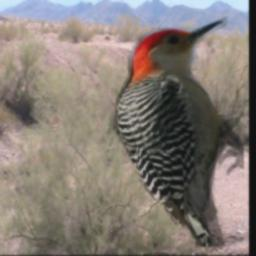Woodpecker: (111, 18, 244, 248)
